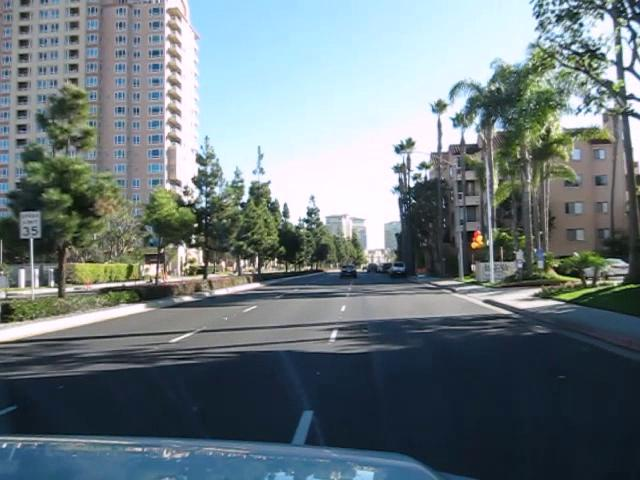speedLimit35: (18, 210, 42, 239)
